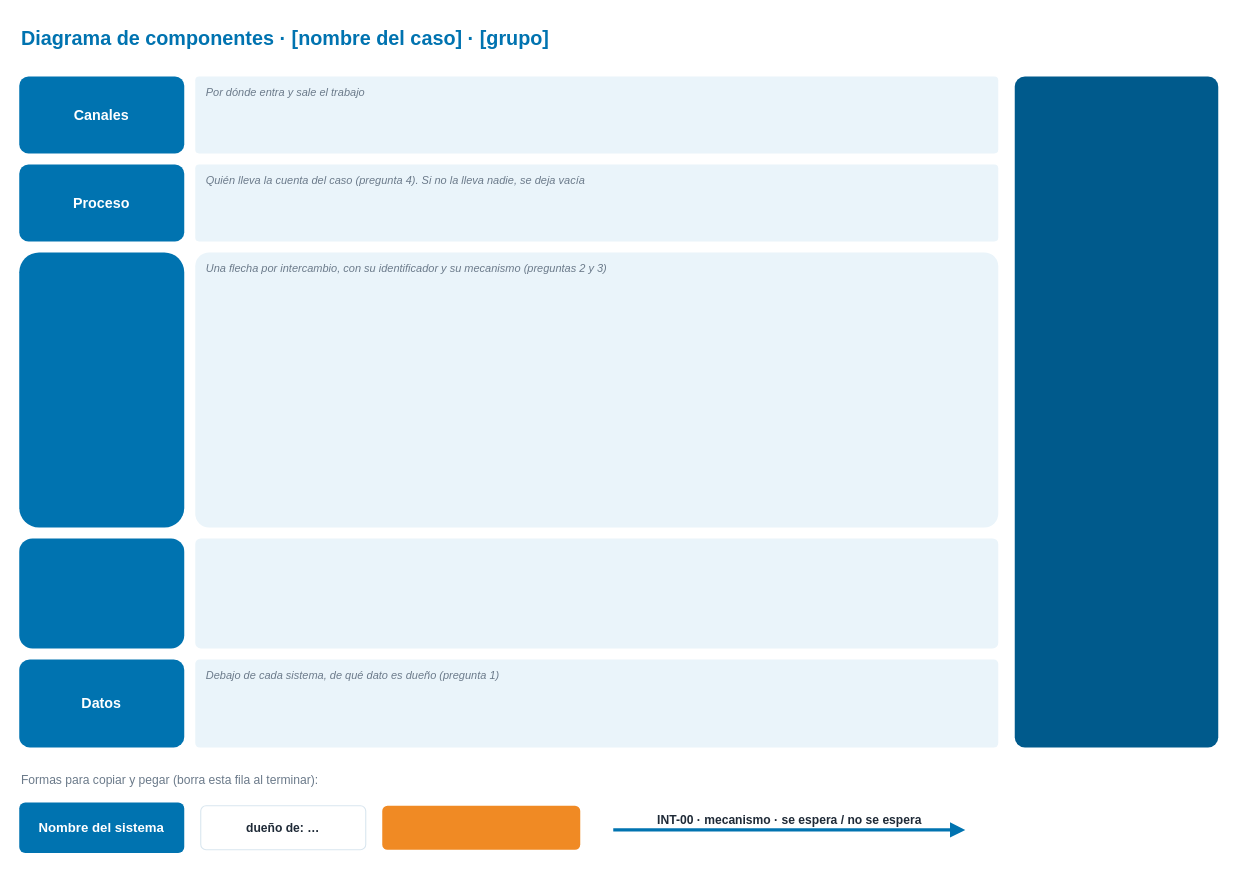
Some shapes in this 1236 by 871 pixel diagram are drawn without their labels. Here are the shapes that lost their labels. From the top down, the box of each, then its label:
(19, 252, 184, 527): Capa de integración
(1014, 76, 1218, 747): Monitorización Qué se vigila y a quién se avisa cuando algo falla
(19, 538, 184, 648): Sistemas corporativos
(195, 538, 998, 648): Una caja por sistema, con el nombre de su papel
(382, 805, 580, 849): Quién lleva la cuenta
